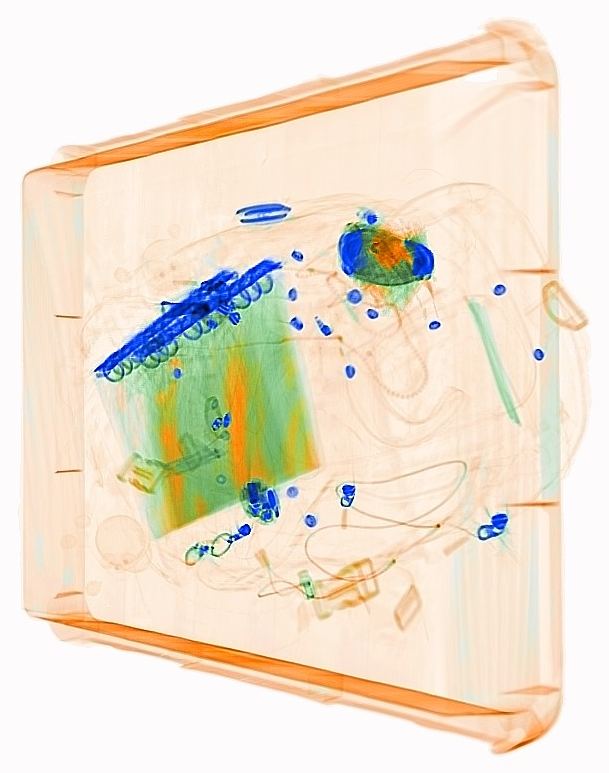FeLighter: (331, 212, 439, 320)
